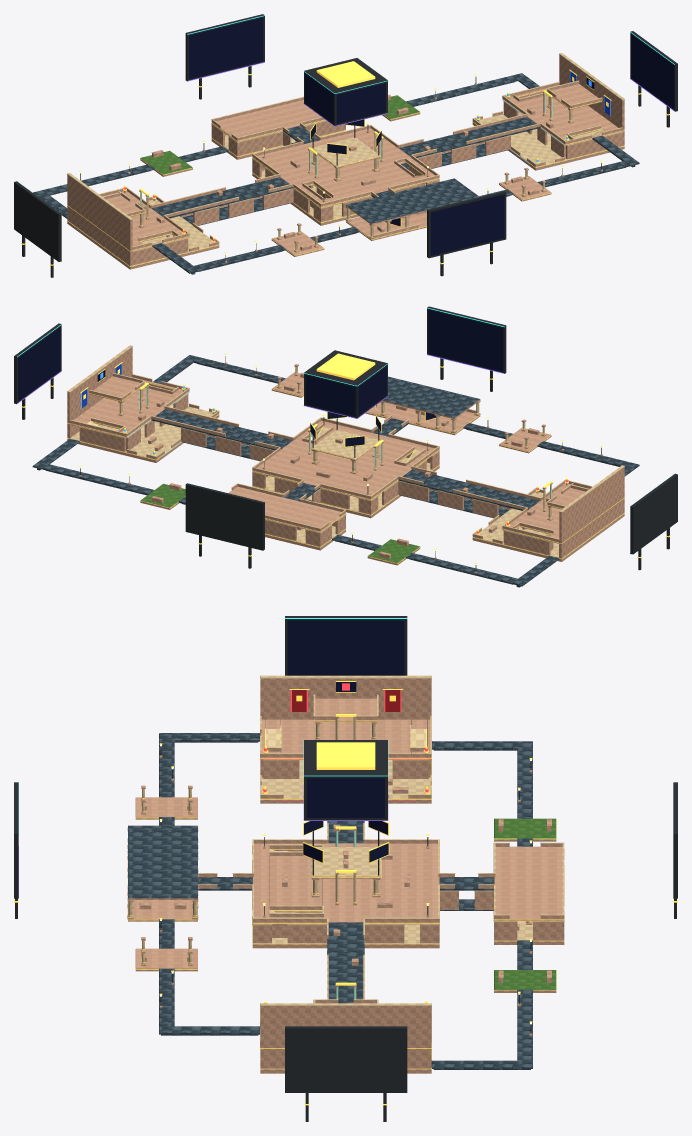
File: skyreach_map_v5.glb
3 views of the same model, one above another, from view 1: azimuth 30°, elevation 25°; view 2: azimuth 150°, elevation 25°; view 3: azimuth 270°, elevation 25° (orthographic). The views are drawn at different scales.
Parts seen in each view (by area): view 1: skyreach_map; view 2: skyreach_map; view 3: skyreach_map.
Part boxes in pixels (x1,y1,x2,y2): skyreach_map: [14, 14, 677, 277]; skyreach_map: [14, 306, 677, 587]; skyreach_map: [14, 616, 677, 1121].
Bounding box in the file's own units: 250 × 45.67 × 170.
17 materials, 5 textured.
